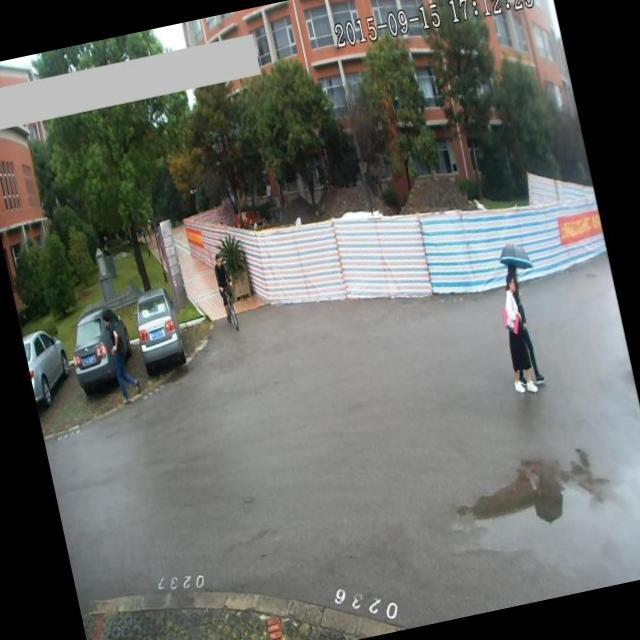person: (504, 250, 562, 394), (492, 272, 542, 413), (100, 309, 145, 407), (210, 251, 244, 335)
